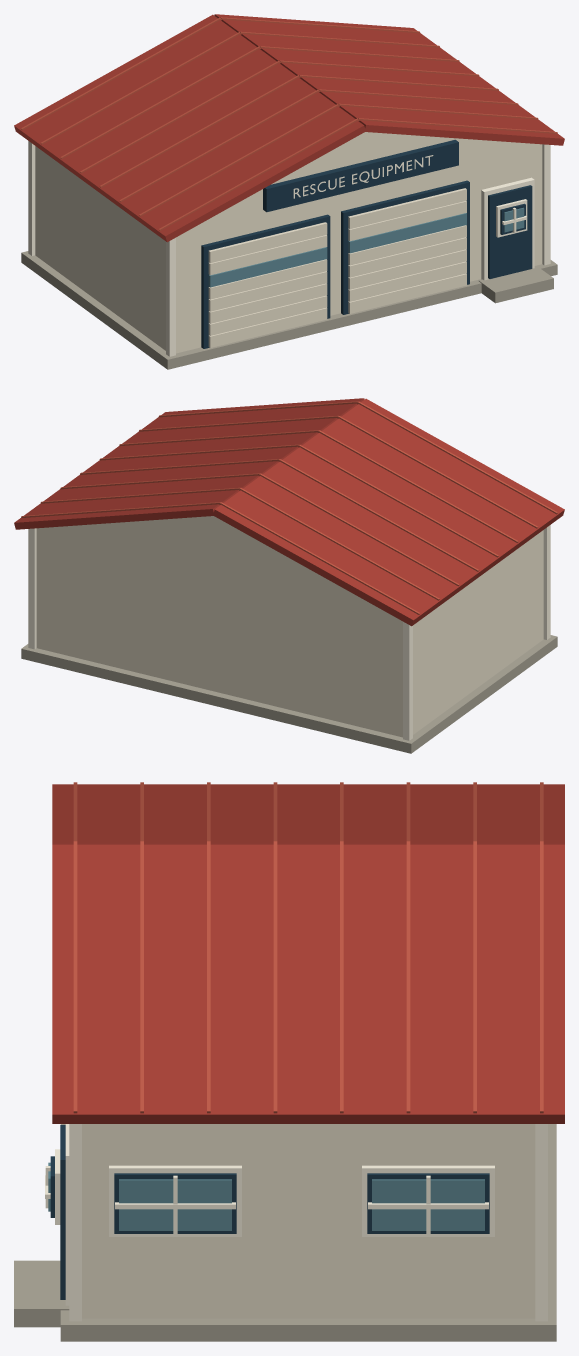
The model's file is equipment_garage.glb.
3 renders of one model, top to bottom at view 1: azimuth 30°, elevation 25°; view 2: azimuth 150°, elevation 25°; view 3: azimuth 270°, elevation 25°, orthographic. The views are drawn at different scales.
Parts seen in each view (by area): view 1: equipment_garage; view 2: equipment_garage; view 3: equipment_garage.
Part boxes in pixels (x1,y1,x2,y2): equipment_garage: (14,14,564,369); equipment_garage: (14,398,564,753); equipment_garage: (14,782,564,1341).
Size of the model in its own units: 11.73 by 5.63 by 8.27.
